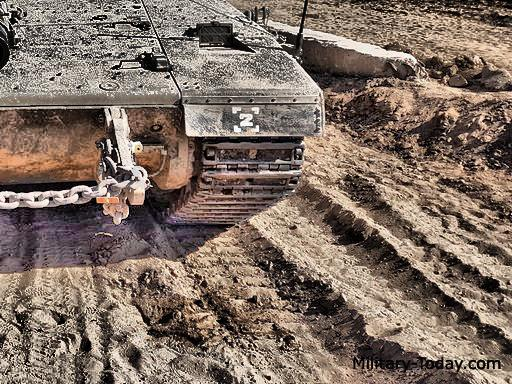tanks: (1, 1, 323, 223)
